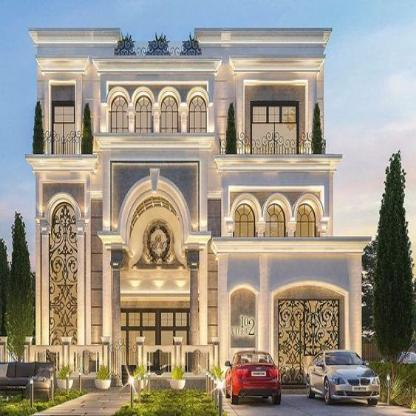Balcony: (219, 131, 326, 155), (115, 41, 202, 55), (37, 131, 83, 155)
Building Outline: (25, 28, 372, 390)
Cornice: (96, 169, 211, 251), (210, 237, 372, 255), (92, 57, 223, 74), (213, 154, 343, 171), (194, 28, 333, 43), (93, 133, 216, 148), (229, 54, 326, 73), (25, 154, 100, 174), (28, 28, 122, 43), (35, 54, 91, 77)
Deco: (132, 217, 185, 270), (230, 315, 255, 336)
Door: (277, 300, 341, 388), (252, 125, 296, 169), (129, 331, 155, 365), (161, 331, 186, 365), (54, 124, 74, 161), (189, 331, 200, 365), (115, 331, 126, 365)
Facade: (25, 28, 373, 392)
Floor Slab: (114, 57, 203, 68), (220, 155, 326, 164), (36, 155, 90, 164)
Glass Wall: (50, 202, 78, 356)
Pillar: (109, 251, 123, 386), (188, 251, 200, 382)
Window: (233, 203, 255, 239), (265, 203, 285, 239), (296, 203, 316, 239), (161, 98, 177, 133), (112, 97, 127, 133), (136, 97, 151, 133), (190, 98, 205, 133), (160, 313, 187, 327), (128, 313, 155, 326), (55, 107, 74, 122), (282, 107, 296, 122), (253, 107, 266, 122), (189, 313, 201, 326), (115, 313, 127, 326), (269, 107, 279, 122)
